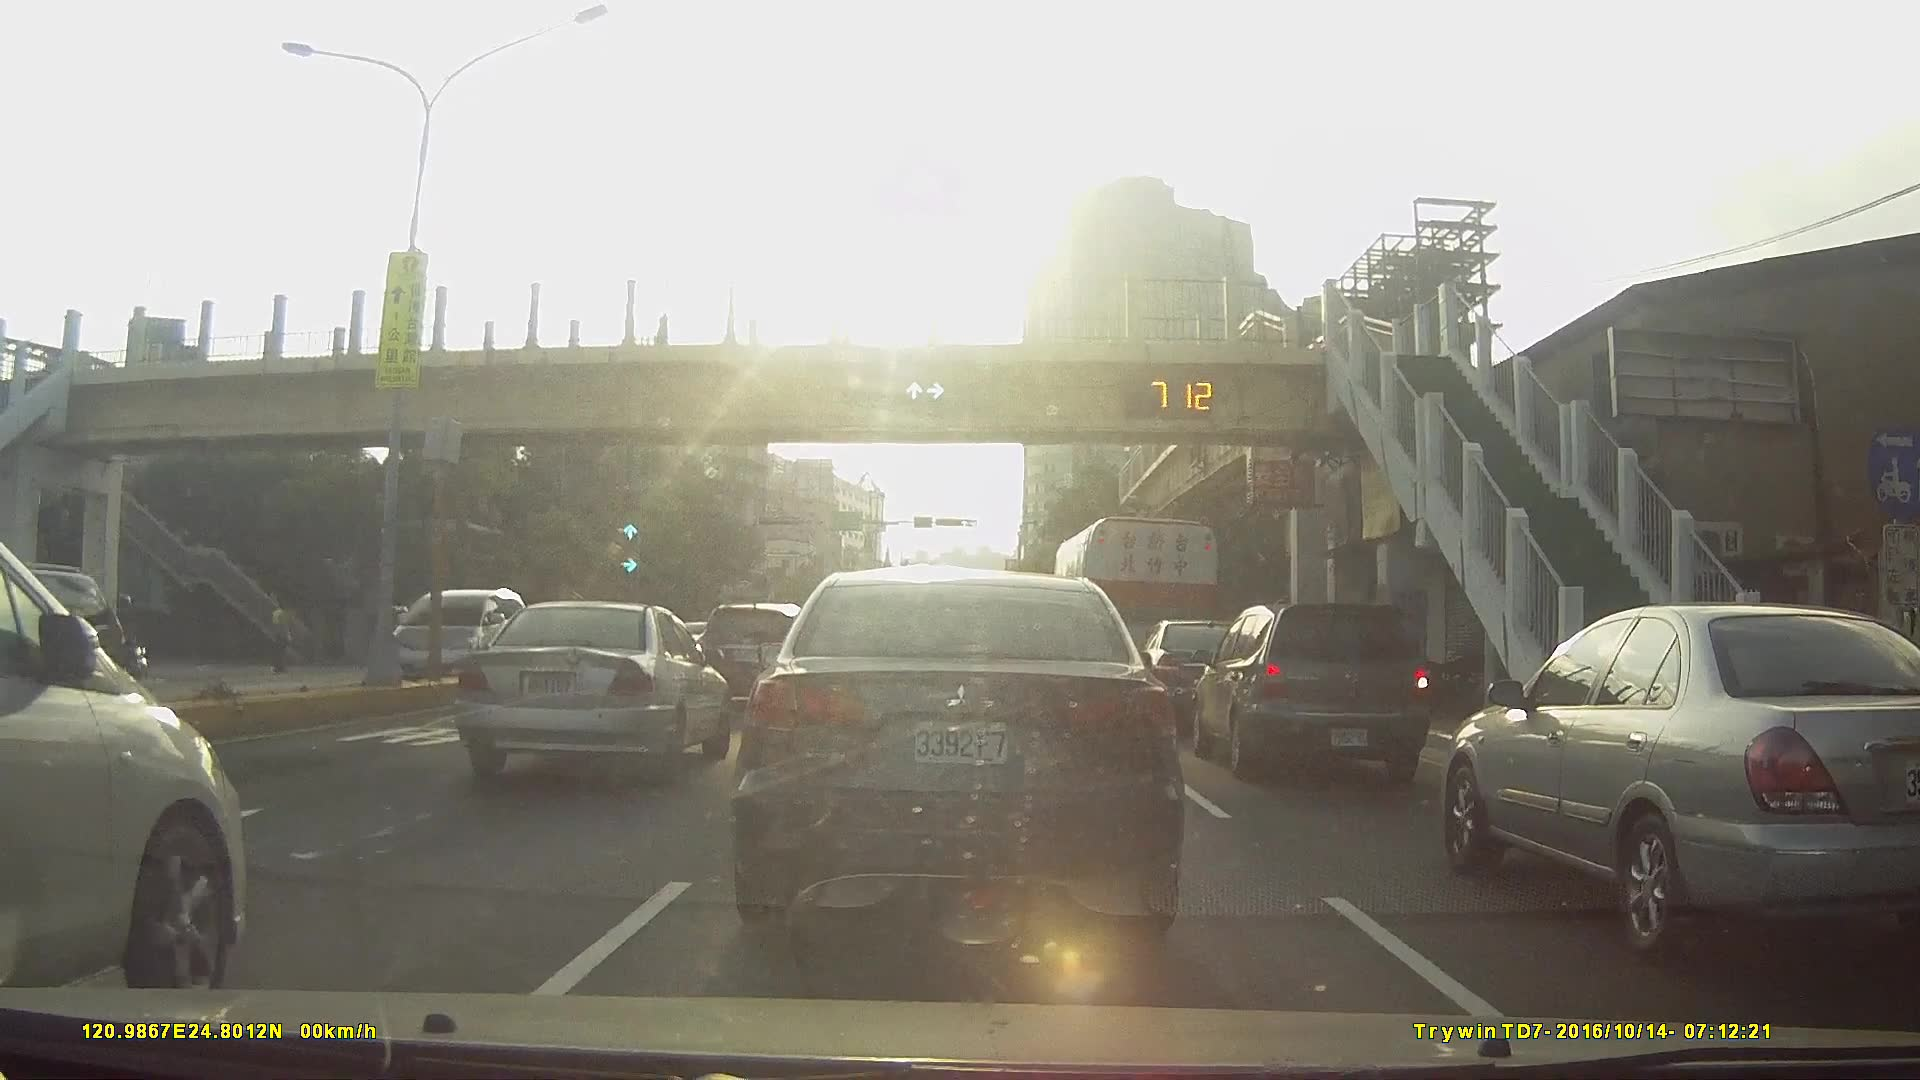vehicle: (1447, 603, 1920, 971), (729, 563, 1185, 935), (0, 509, 268, 1017), (462, 603, 738, 777), (1192, 603, 1445, 786), (1, 564, 142, 707), (364, 585, 539, 694), (1139, 618, 1273, 729), (699, 601, 815, 708)
